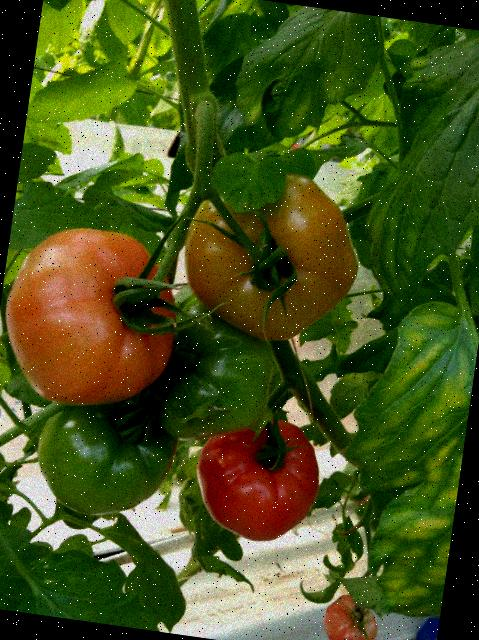b_fully_ripened: (188, 411, 327, 549)
b_green: (136, 290, 282, 451), (27, 386, 181, 525)
b_half_ripened: (172, 160, 371, 353), (0, 217, 187, 418), (320, 592, 381, 640)
